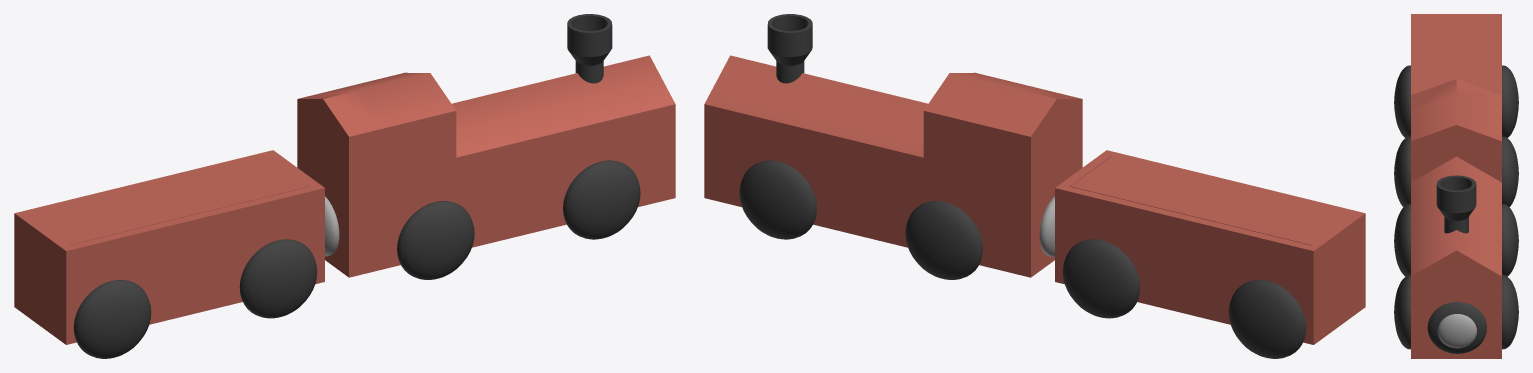
Rendered from Train.fbx.
3 views of the same model, side by side, from view 1: azimuth 30°, elevation 25°; view 2: azimuth 150°, elevation 25°; view 3: azimuth 270°, elevation 25° (orthographic). The views are drawn at different scales.
Parts seen in each view (by area): view 1: polySurface102; view 2: polySurface102; view 3: polySurface102.
Boxes of the visible parts, x1=… form: polySurface102: x1=14, y1=14, x2=675, y2=358; polySurface102: x1=704, y1=14, x2=1365, y2=358; polySurface102: x1=1394, y1=14, x2=1518, y2=358.
Bounding box in the file's own units: 6.95 × 2.04 × 1.37.
